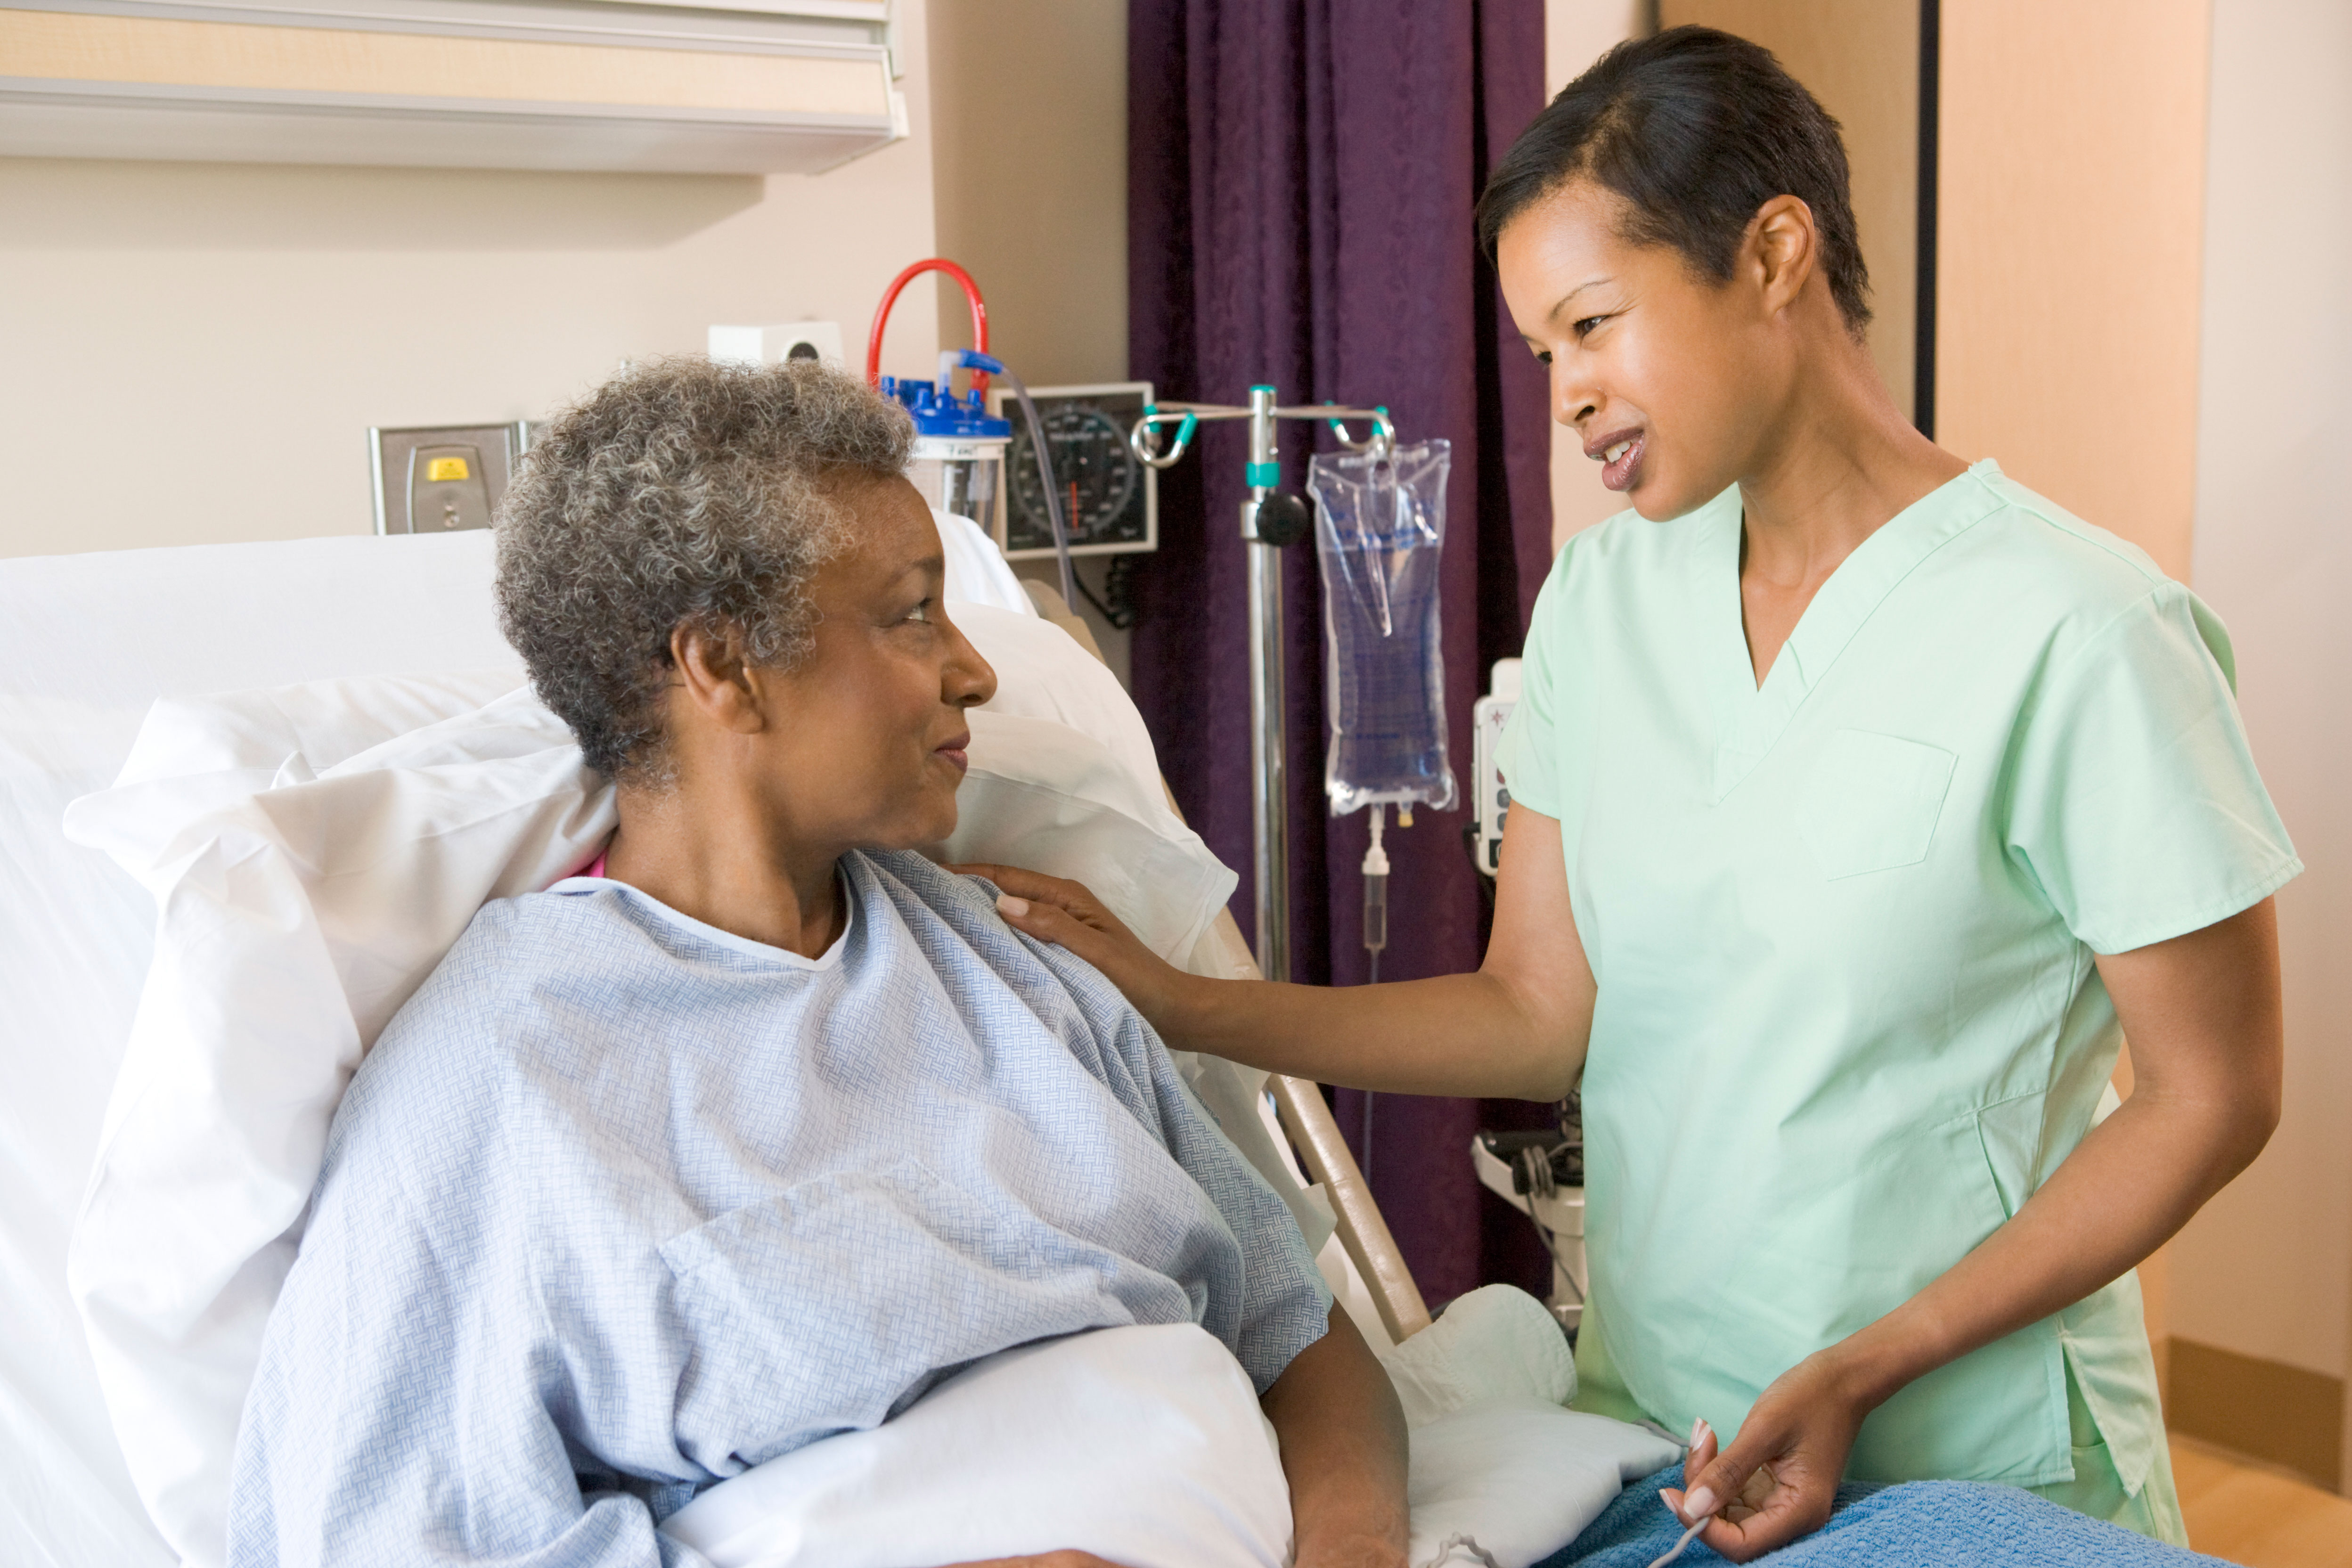Nurse: (1160, 19, 2320, 1478)
